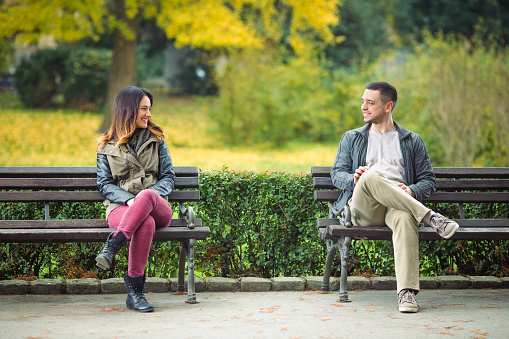person: (325, 76, 465, 318), (89, 83, 184, 318)
